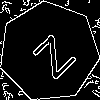Z: (24, 26, 77, 80)
